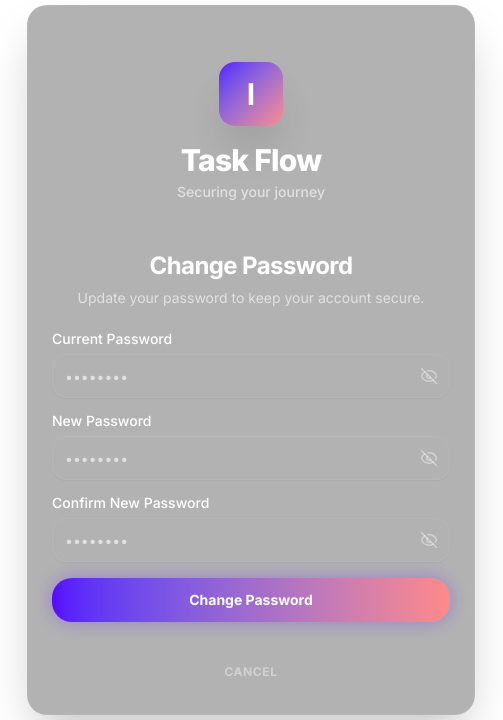
Test case: ChangePassword page › shows validation error when passwords do not match
The image size is (503, 720).
Type "OldPass1!" into the password field labelled "Current Password" at {"x": 251, "y": 376}, box [52,354,450,398]
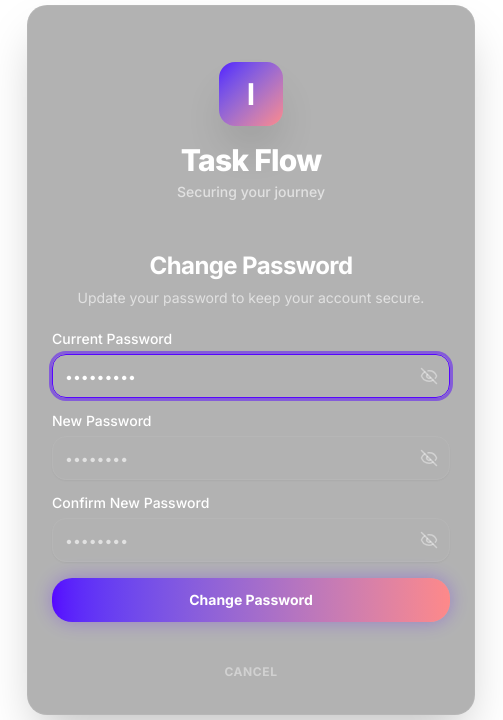
Type "NewPass1!" into the password field labelled "New Password" at {"x": 251, "y": 458}, box [52,436,450,480]
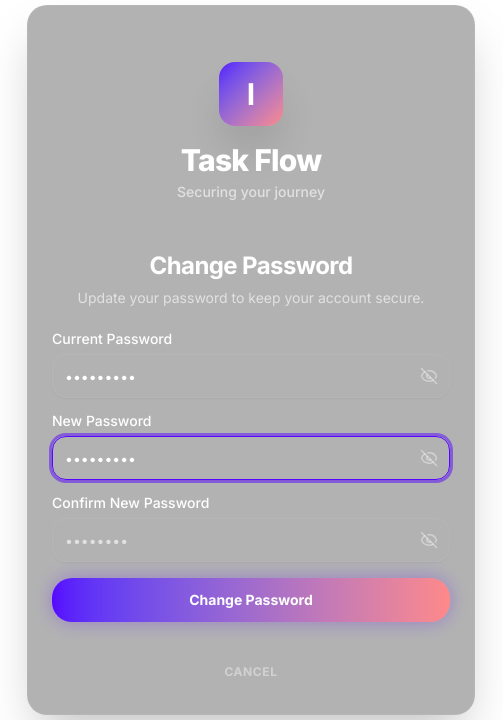
Type "DifferentPass1!" into the password field labelled "Confirm New Password" at {"x": 251, "y": 540}, box [52,518,450,562]
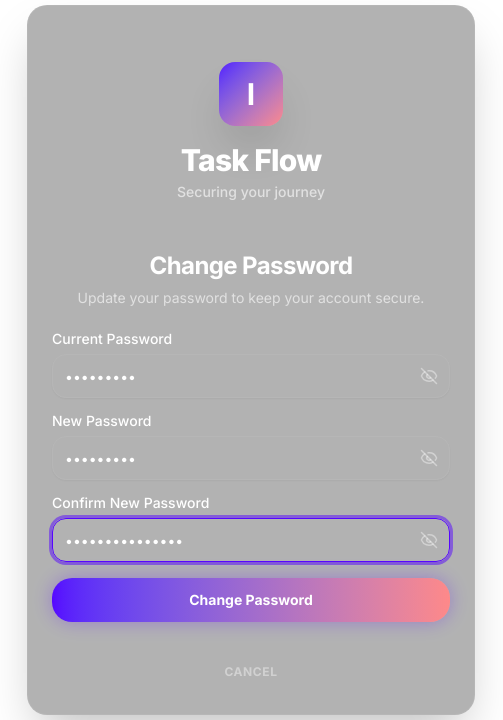
Click the button "Change Password" at {"x": 251, "y": 600}, box [52,578,450,622]
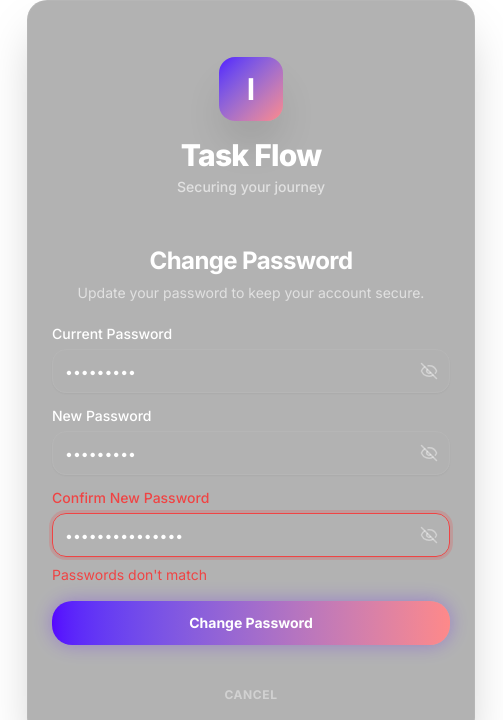
Result: the text "Passwords don't match" is shown at [52,566,207,583]
